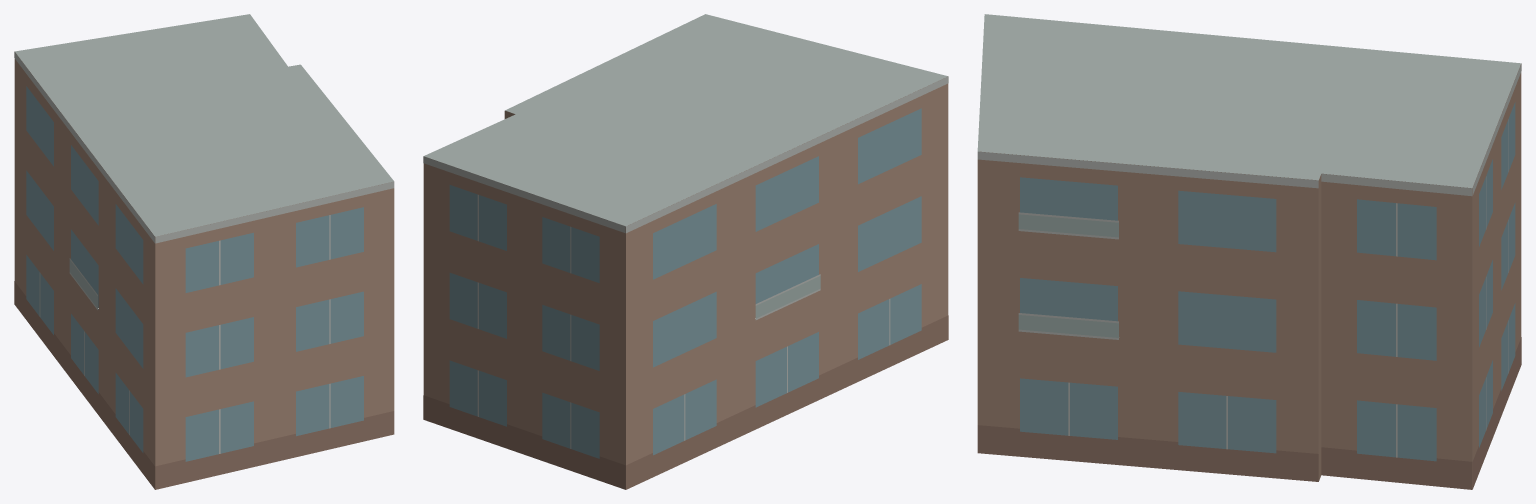
The model's file is survey-upis-32936096.glb.
3 renders of one model, left to right at view 1: azimuth 30°, elevation 25°; view 2: azimuth 150°, elevation 25°; view 3: azimuth 270°, elevation 25°, orthographic. The views are drawn at different scales.
Visible parts, largest first — view 1: survey-upis-32936096.tmp; view 2: survey-upis-32936096.tmp; view 3: survey-upis-32936096.tmp.
Part boxes in pixels (bbox=[...]): survey-upis-32936096.tmp: bbox=[14, 14, 394, 489]; survey-upis-32936096.tmp: bbox=[423, 14, 948, 489]; survey-upis-32936096.tmp: bbox=[977, 14, 1521, 489].
Bounding box in the file's own units: 11.34 × 9.15 × 14.96.
